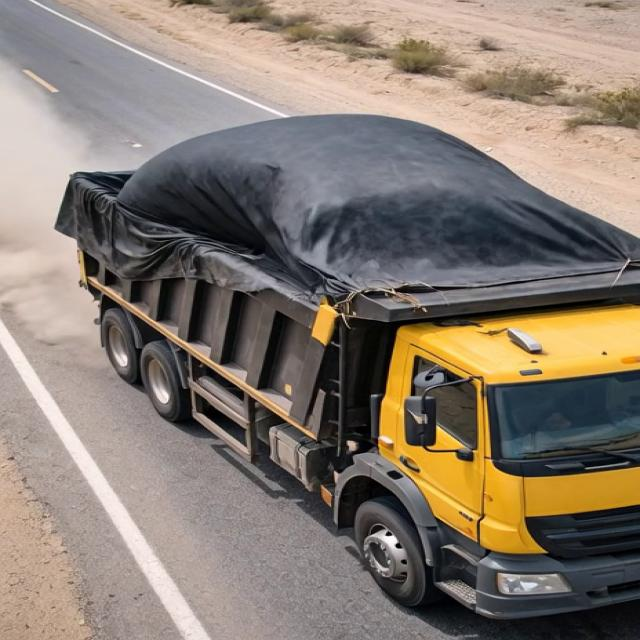trailer: (60, 164, 624, 302)
truck: (42, 152, 632, 627)
